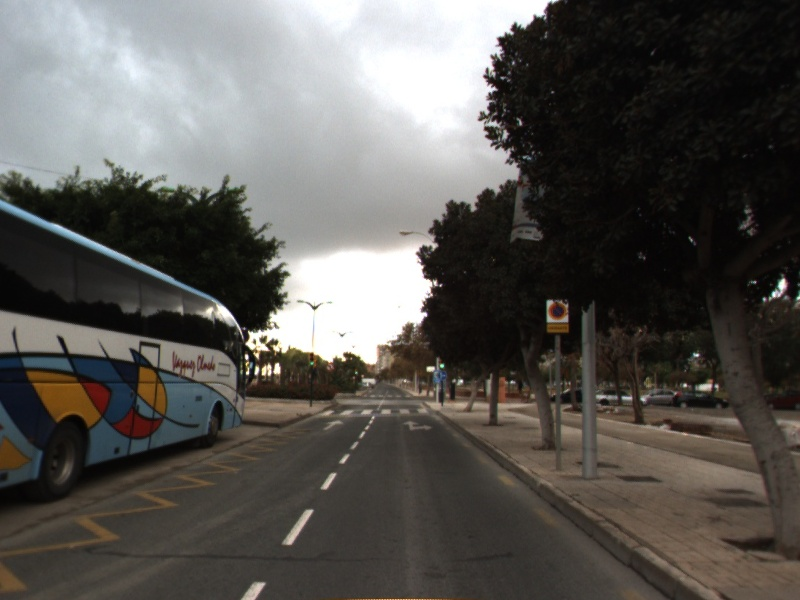STRAIGHT: (322, 418, 346, 432)
STRAIGHT_RIGHT: (400, 419, 435, 433)
